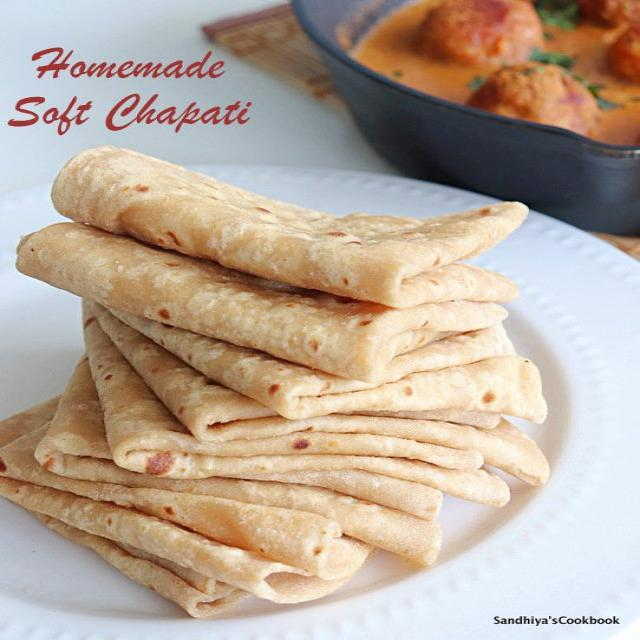CHAPATHI: (0, 145, 553, 620)
